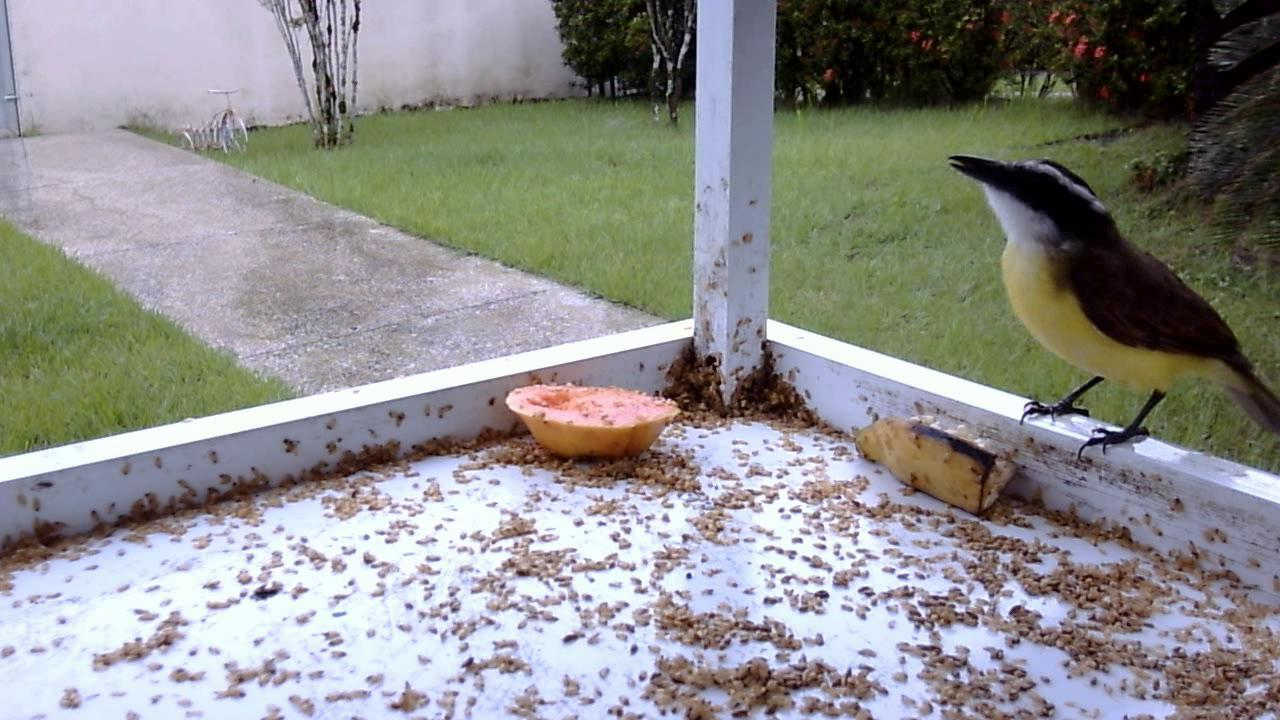bem_te_vi: (930, 140, 1280, 488)
